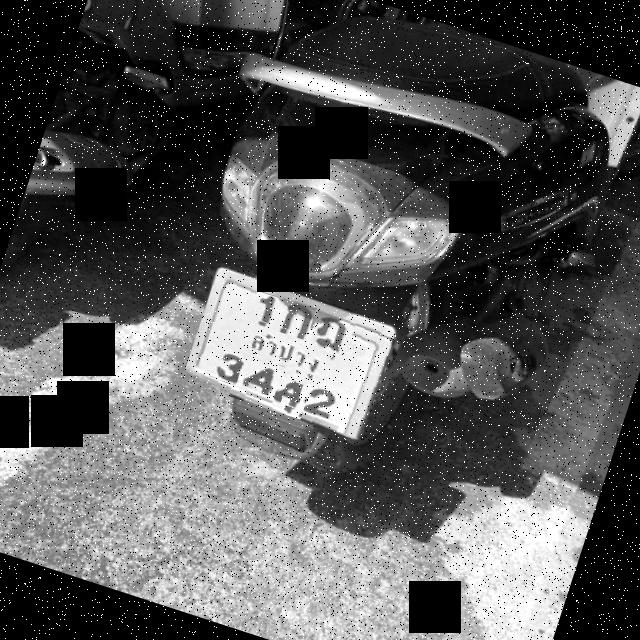letters: (306, 307, 357, 358), (299, 386, 349, 436), (209, 338, 249, 386), (274, 296, 317, 336), (244, 362, 282, 403), (248, 290, 284, 326), (280, 378, 305, 409)
license-plate: (186, 271, 394, 438)
province: (240, 322, 334, 380)
